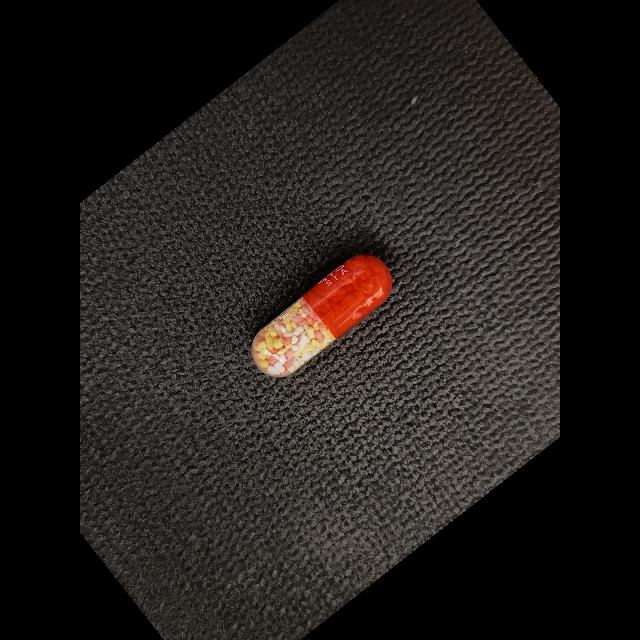Intact Capsule: (252, 255, 392, 378)
